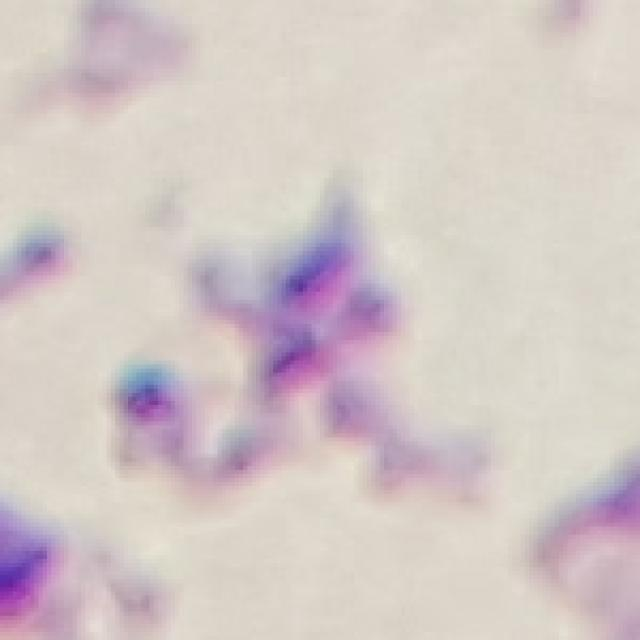non-sperm: (108, 234, 408, 496)
